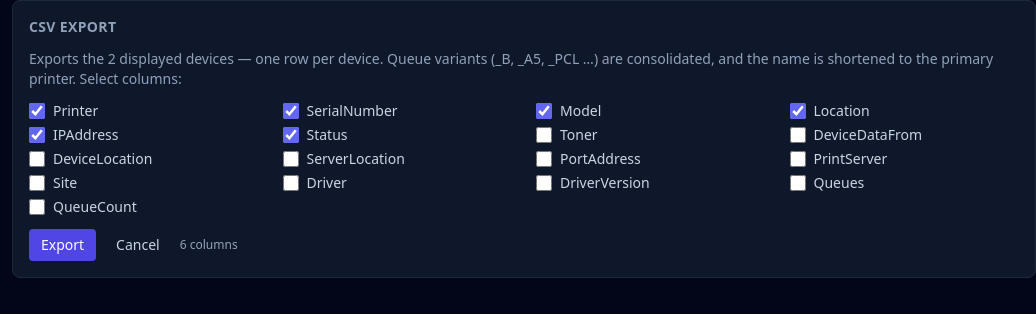
Test: PrintCsvExportCard › keeps the panel open when the save dialog is cancelled
The image size is (1036, 314).
Step 1. Click the button "Export" → (63,245), box [29,229,96,261]
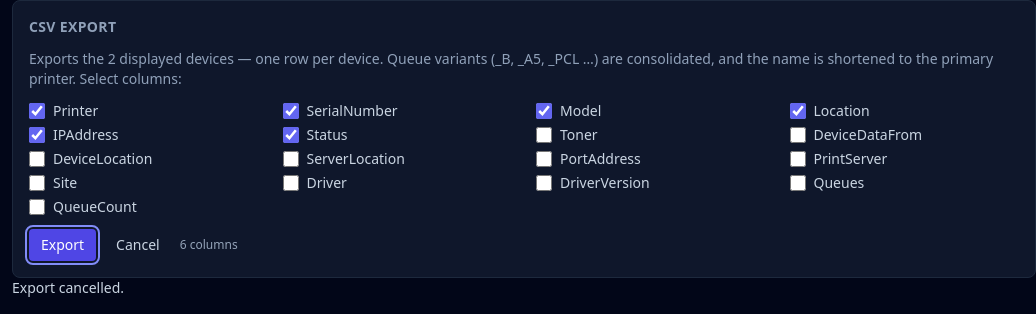
Expected: the heading "CSV export" is shown, [29,17,116,36]
Result: the text "Export cancelled." is shown at [12,278,124,297]
